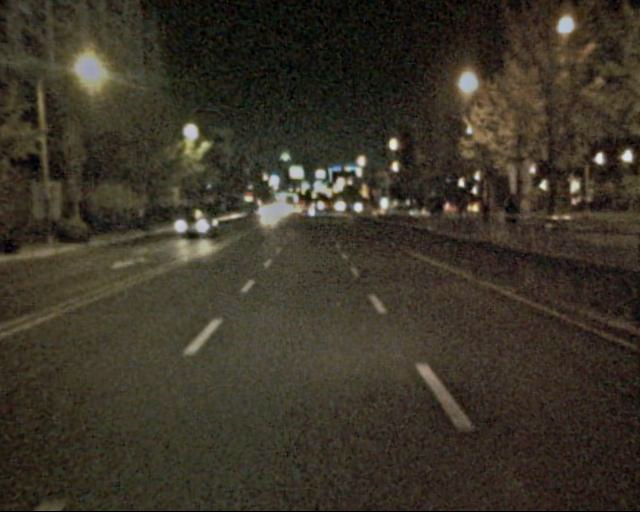person: (499, 193, 521, 247), (478, 192, 501, 238)
